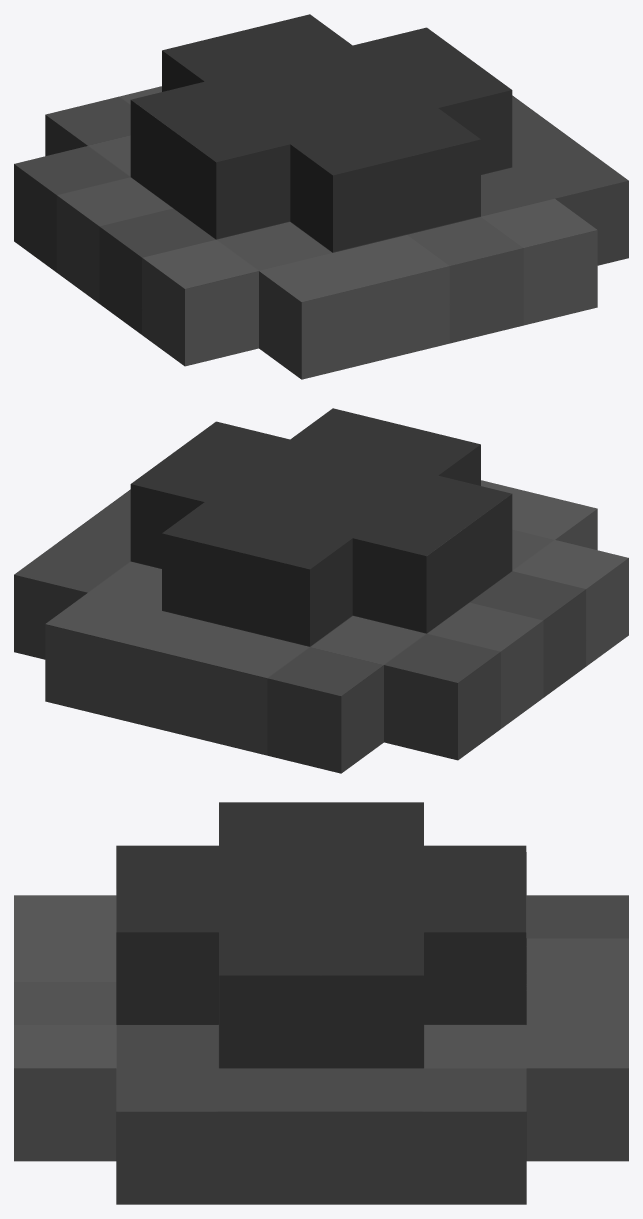
File: Button_Floor_Circle_Gray.glb
The picture shows the model from 3 angles, top to bottom: view 1: azimuth 30°, elevation 25°; view 2: azimuth 150°, elevation 25°; view 3: azimuth 270°, elevation 25°; orthographic projection. The views are drawn at different scales.
Visible parts, largest first — view 1: Button_Floor_Circle_Gray; view 2: Button_Floor_Circle_Gray; view 3: Button_Floor_Circle_Gray.
Part boxes in pixels (x1,y1,x2,y2): Button_Floor_Circle_Gray: [14, 14, 628, 379]; Button_Floor_Circle_Gray: [14, 408, 628, 773]; Button_Floor_Circle_Gray: [14, 802, 628, 1204].
Bounding box in the file's own units: 0.6 × 0.2 × 0.6.
1 material, 1 textured.
